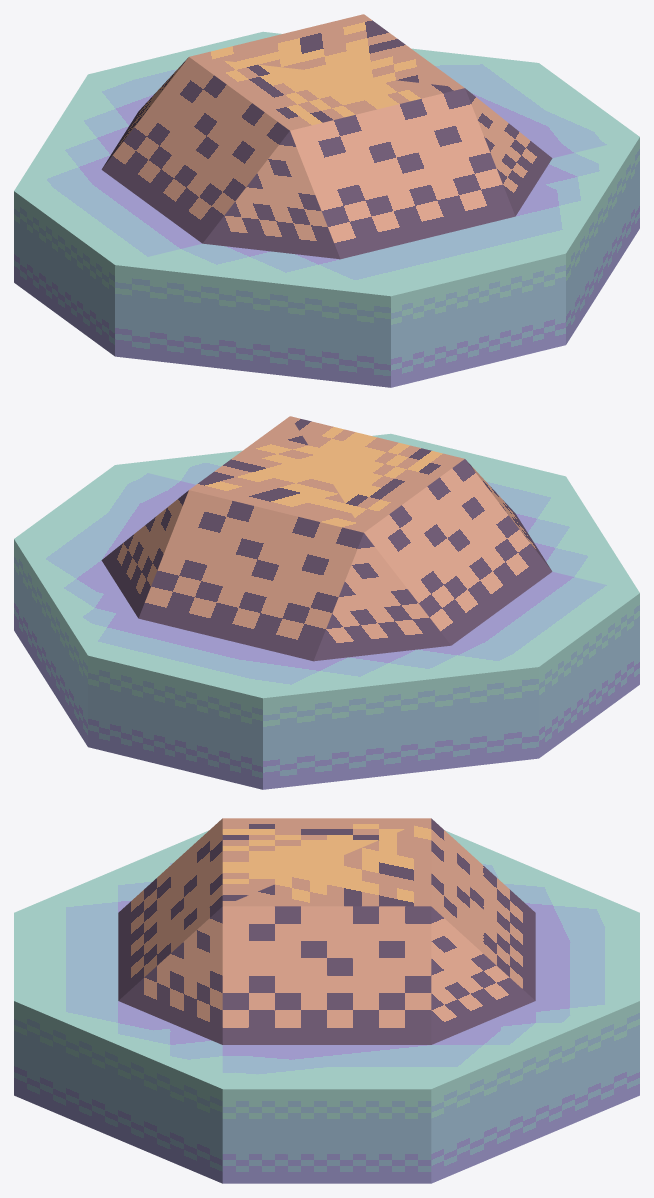
File: Gamelle.gltf
3 renders of one model, top to bottom at view 1: azimuth 30°, elevation 25°; view 2: azimuth 150°, elevation 25°; view 3: azimuth 270°, elevation 25°, orthographic. The views are drawn at different scales.
Bounding box in the file's own units: 1.5 × 0.5 × 1.5.
Materials: 1 (1 with a texture image).
